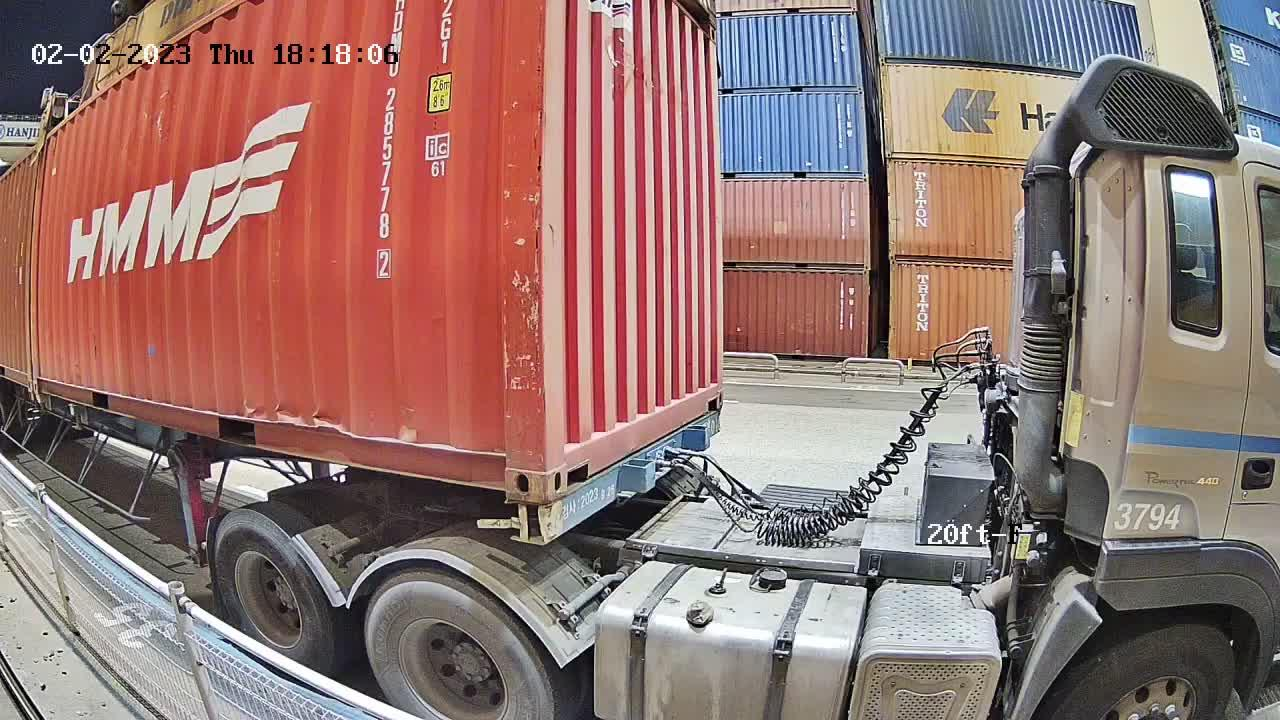Chassis: (508, 410, 721, 546)
Cone: (507, 503, 544, 548)
Hole_L: (542, 417, 597, 507)
Hole_R: (470, 427, 544, 504), (702, 374, 724, 417)
Tire: (366, 572, 551, 718), (214, 508, 329, 683)
